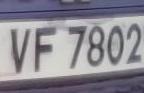0: (107, 19, 127, 72)
2: (125, 16, 144, 71)
7: (64, 22, 89, 75)
8: (85, 21, 108, 74)
F: (31, 23, 60, 77)
V: (6, 24, 33, 78)
